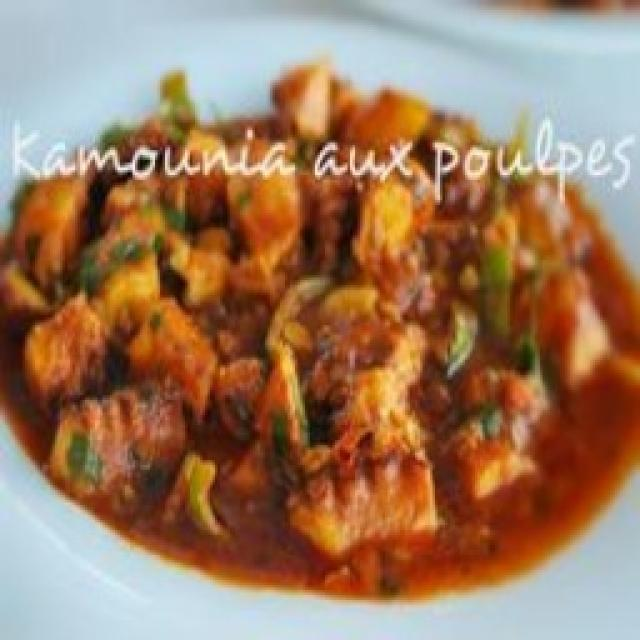Kamouniya: (0, 61, 640, 598)
